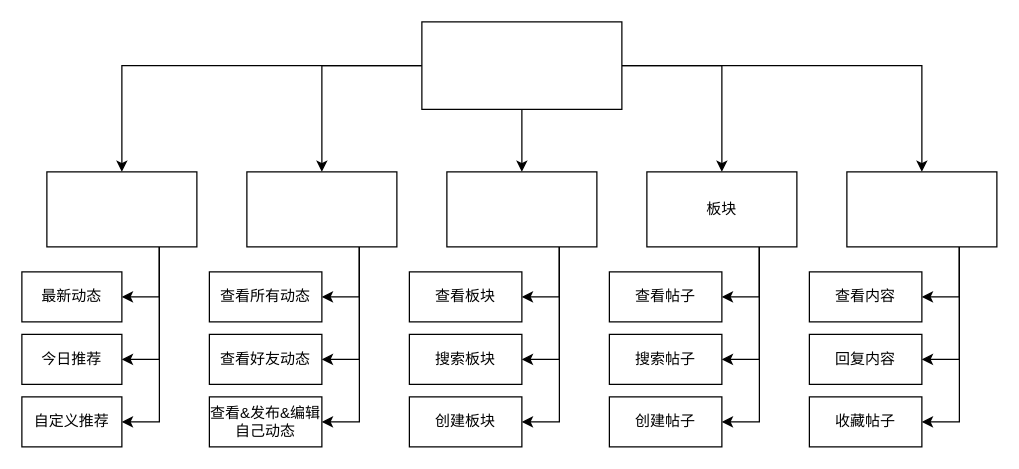
Some shapes in this 1019 by 469 pixel diagram are drawn without their labels. The shapes that lost their labels are listed below. From the top down, each one's centre as x and y in pixels, then its label:
the point at 521,65: GDUT BBS功能组成
the point at 121,209: 首页
the point at 321,209: 动态
the point at 521,209: 论坛
the point at 921,209: 帖子
